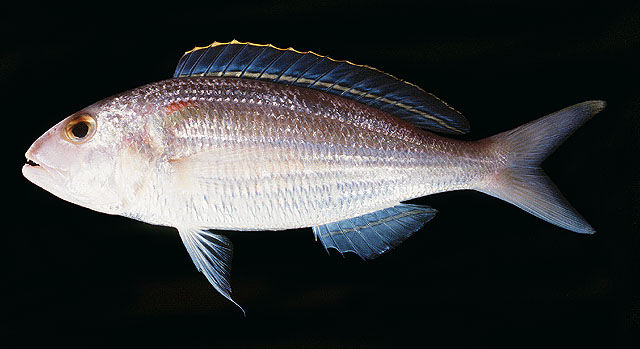fish: (22, 37, 605, 315)
